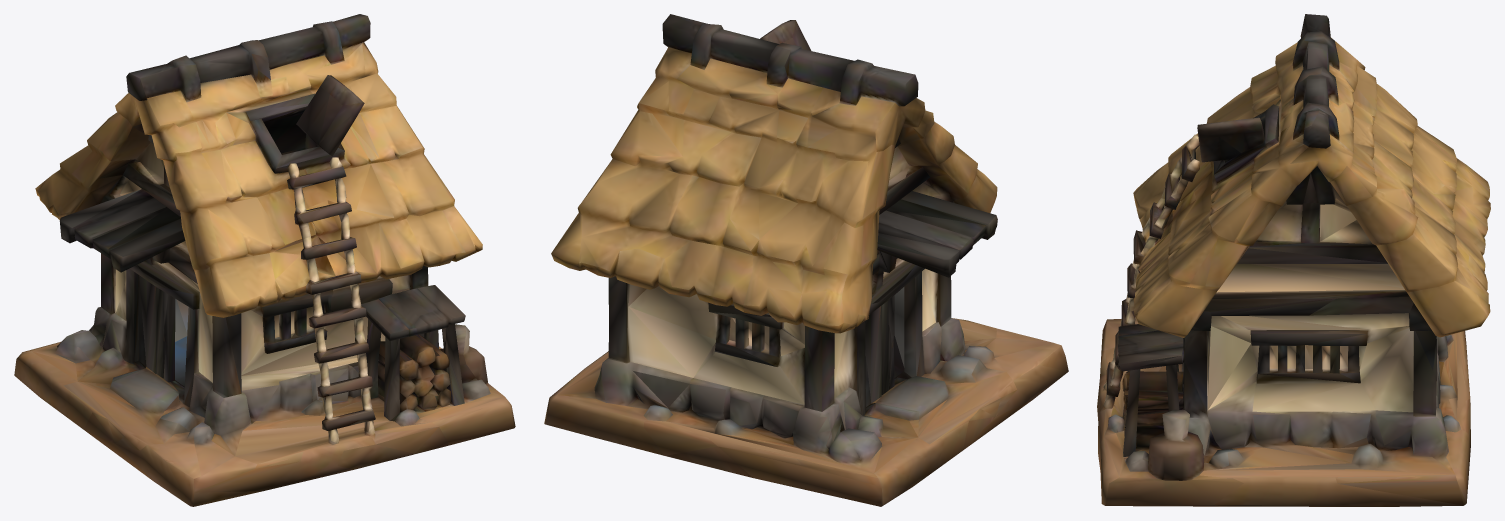
The model's file is hideout.glb.
The picture shows the model from 3 angles, left to right: view 1: azimuth 30°, elevation 25°; view 2: azimuth 150°, elevation 25°; view 3: azimuth 270°, elevation 25°; orthographic projection. The views are drawn at different scales.
Visible parts, largest first — view 1: tripo_node_e5773520-f14e-4f54-9d4d-63c6478c00a8; view 2: tripo_node_e5773520-f14e-4f54-9d4d-63c6478c00a8; view 3: tripo_node_e5773520-f14e-4f54-9d4d-63c6478c00a8.
Boxes of the visible parts, box(x1,y1,x2,y2) form: tripo_node_e5773520-f14e-4f54-9d4d-63c6478c00a8: box(14, 14, 515, 506); tripo_node_e5773520-f14e-4f54-9d4d-63c6478c00a8: box(544, 14, 1068, 506); tripo_node_e5773520-f14e-4f54-9d4d-63c6478c00a8: box(1097, 14, 1490, 506).
Bounding box in the file's own units: 0.9802 × 0.9689 × 0.9655.
Materials: 1 (1 with a texture image).
